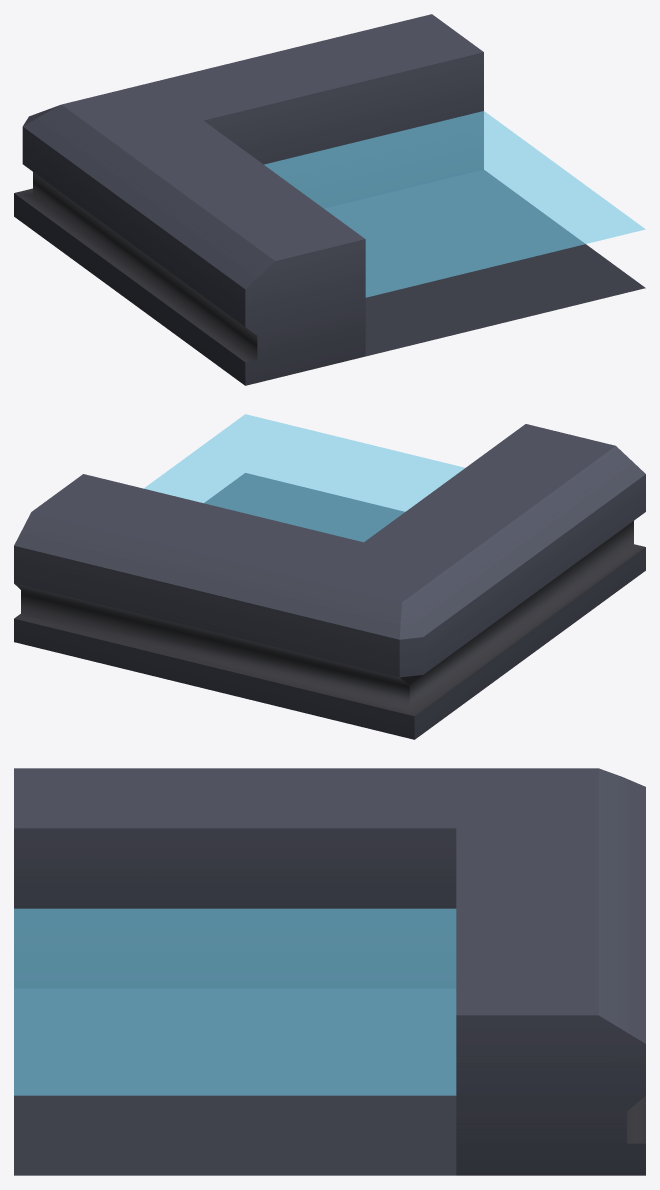
File: fountain-corner.glb
3 views of the same model, one above another, from view 1: azimuth 30°, elevation 25°; view 2: azimuth 150°, elevation 25°; view 3: azimuth 270°, elevation 25° (orthographic). The views are drawn at different scales.
Visible parts, largest first — view 1: fountain-corner, (_ignore); view 2: fountain-corner, (_ignore); view 3: fountain-corner, (_ignore).
Boxes of the visible parts, x1,y1,x2,y2 form: fountain-corner: (14, 14, 645, 385); (_ignore): (264, 111, 645, 297); fountain-corner: (14, 424, 645, 739); (_ignore): (144, 414, 464, 542); fountain-corner: (14, 768, 645, 1175); (_ignore): (14, 908, 456, 1095).
Bounding box in the file's own units: 1 × 0.28 × 1.
Materials: 2 (1 with a texture image).
